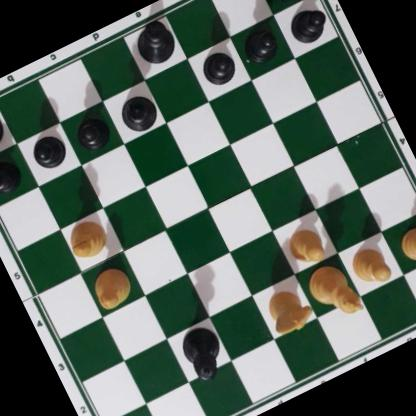black-bishop: (114, 89, 163, 138)
black-king: (127, 14, 183, 71)
black-pawn: (283, 0, 331, 49), (70, 109, 118, 157), (196, 44, 240, 90), (238, 22, 282, 67), (26, 130, 70, 174), (0, 154, 24, 197)
black-queen: (174, 319, 232, 385)
black-rook: (0, 100, 10, 159), (258, 0, 319, 5)
white-bishop: (87, 263, 138, 314), (61, 214, 112, 264)
white-king: (302, 256, 366, 327)
white-knight: (260, 280, 319, 340)
white-pawn: (345, 240, 395, 292), (282, 223, 330, 272), (394, 219, 416, 269)
